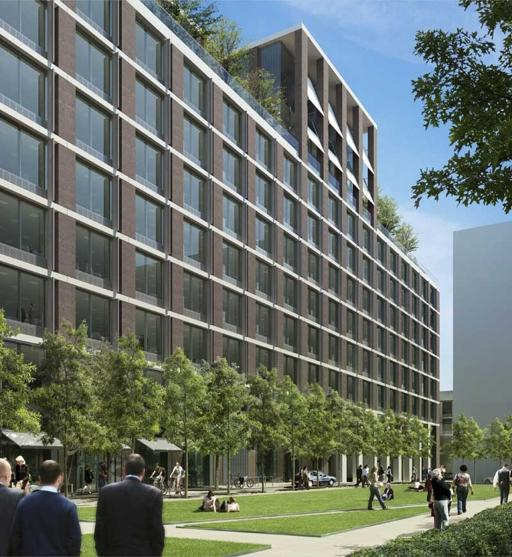non-vehicle: (150, 476, 168, 495), (169, 476, 186, 496), (233, 471, 254, 487)
